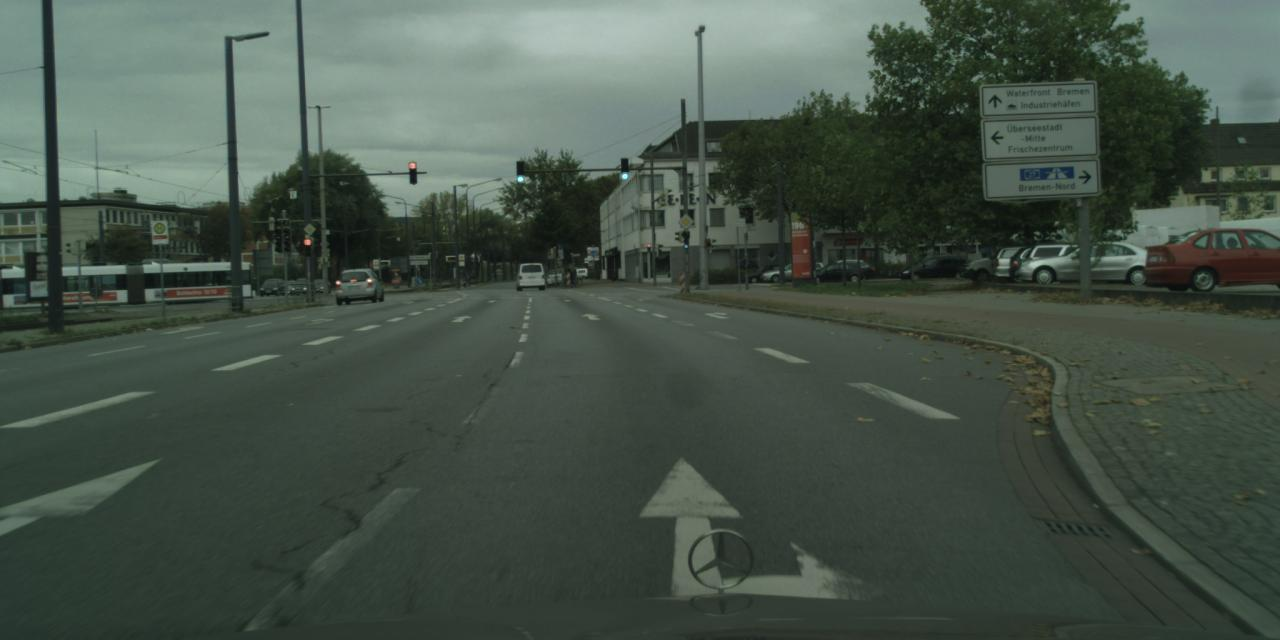ped: (568, 266, 576, 286)
